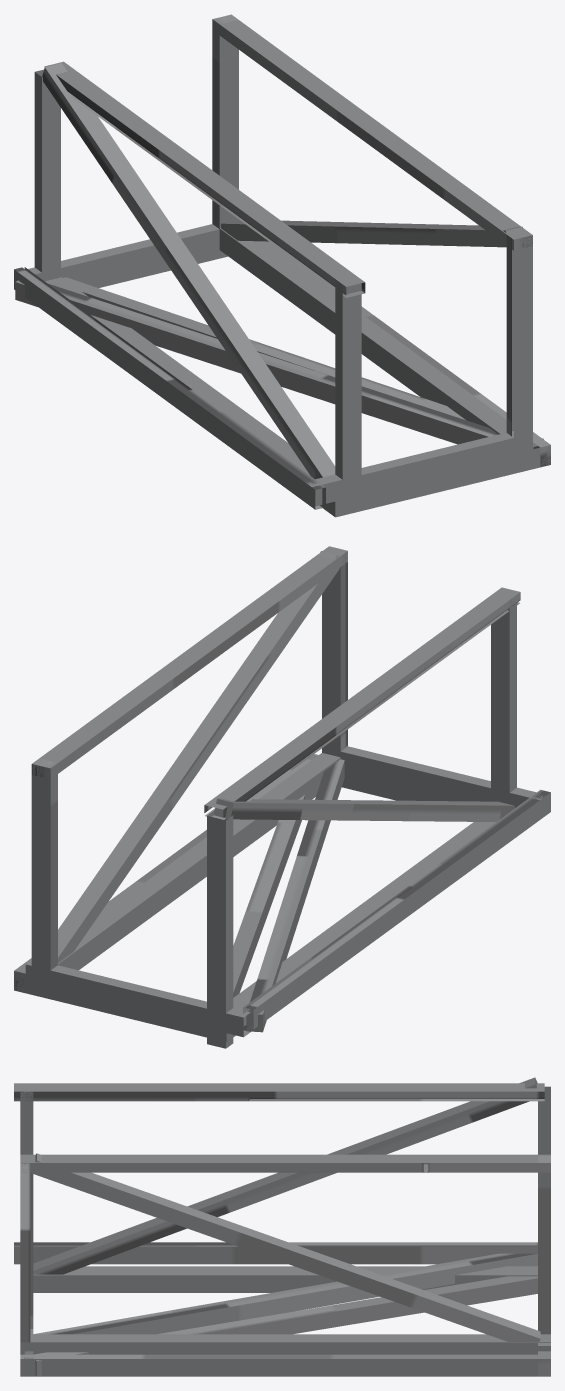
The picture shows the model from 3 angles, top to bottom: view 1: azimuth 30°, elevation 25°; view 2: azimuth 150°, elevation 25°; view 3: azimuth 270°, elevation 25°; orthographic projection. The views are drawn at different scales.
Size of the model in its own units: 1.16 by 1.09 by 2.49.
